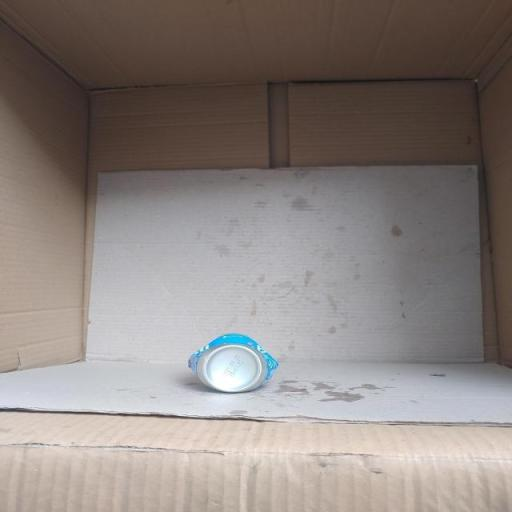metal: (176, 325, 295, 407)
